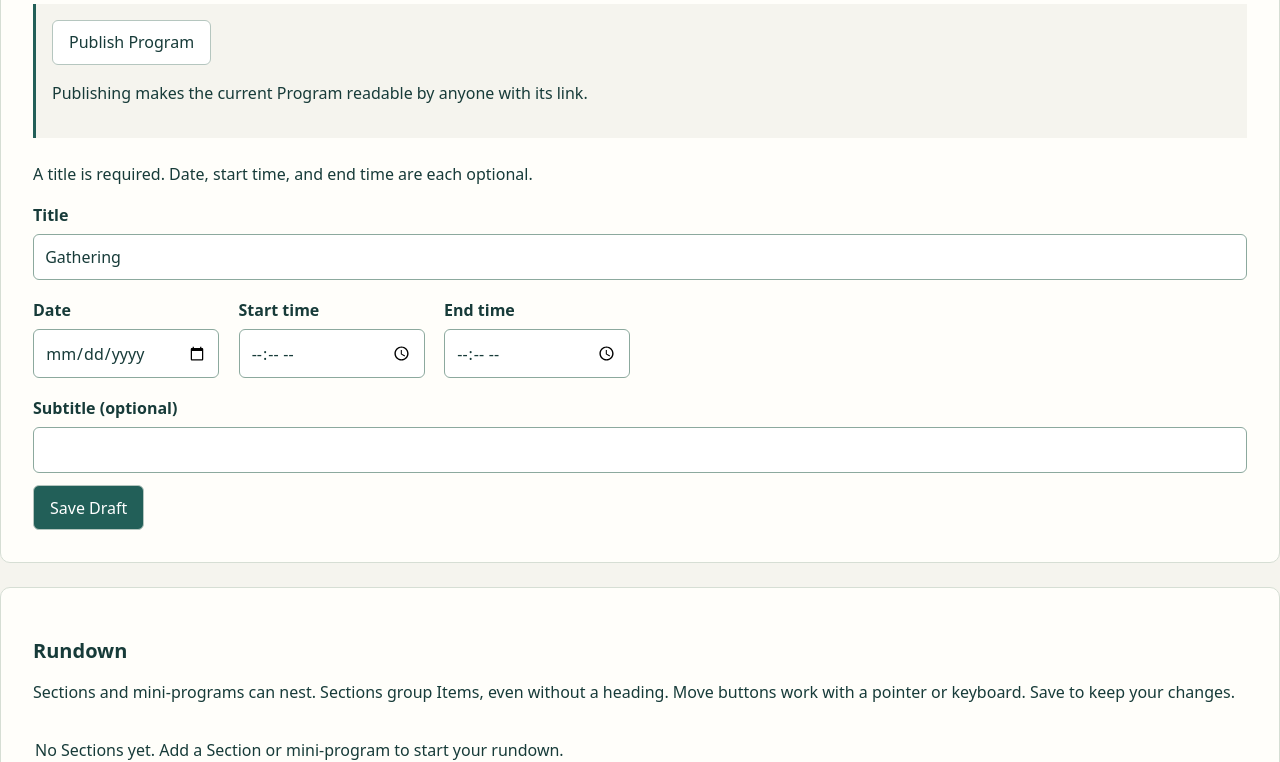
Scenario: places Program subtitle validation beside its field and keeps the value
(page scrolled)
Check: the field showing "Gathering" is shown, box [33, 234, 1247, 280]
Type "A long subtitle" into the field labelled "Subtitle (optional)" at (640, 450), box [33, 427, 1247, 473]
(page scrolled)
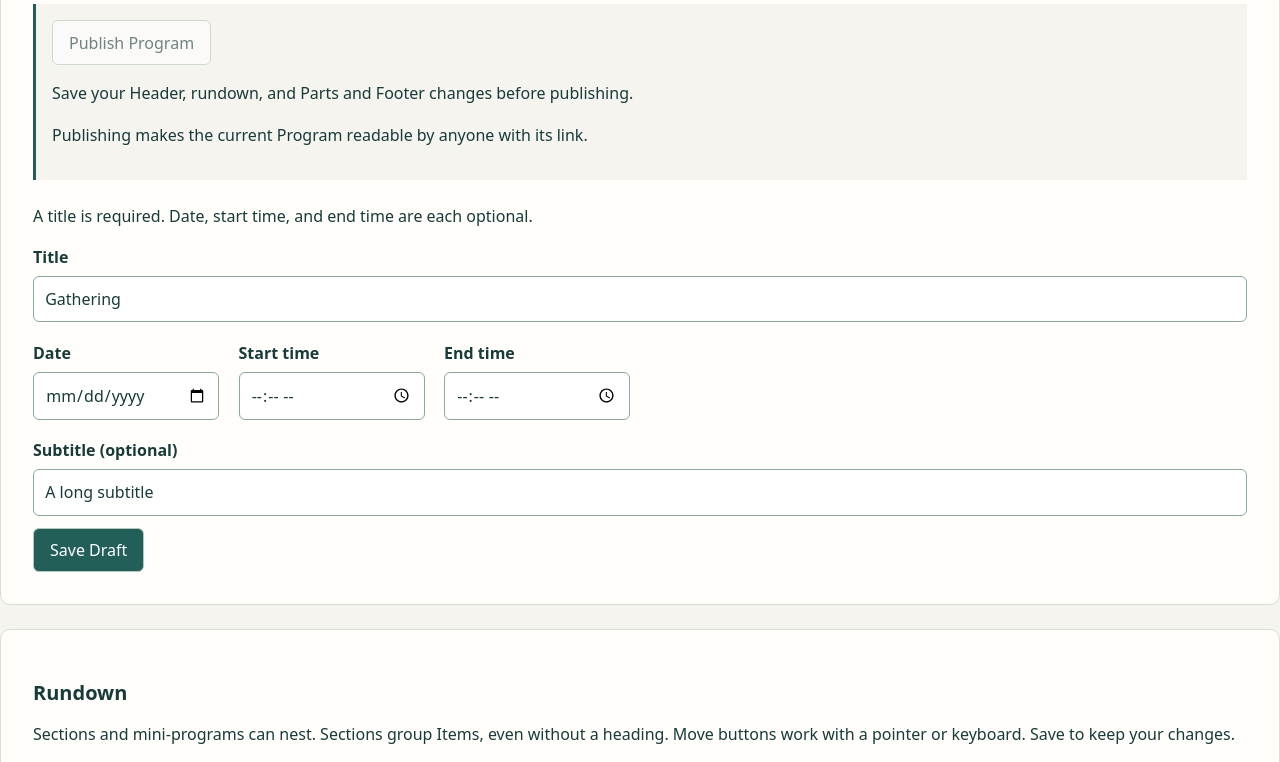
Submit the form named "Program Header", box [33, 204, 1247, 572]
(page scrolled)
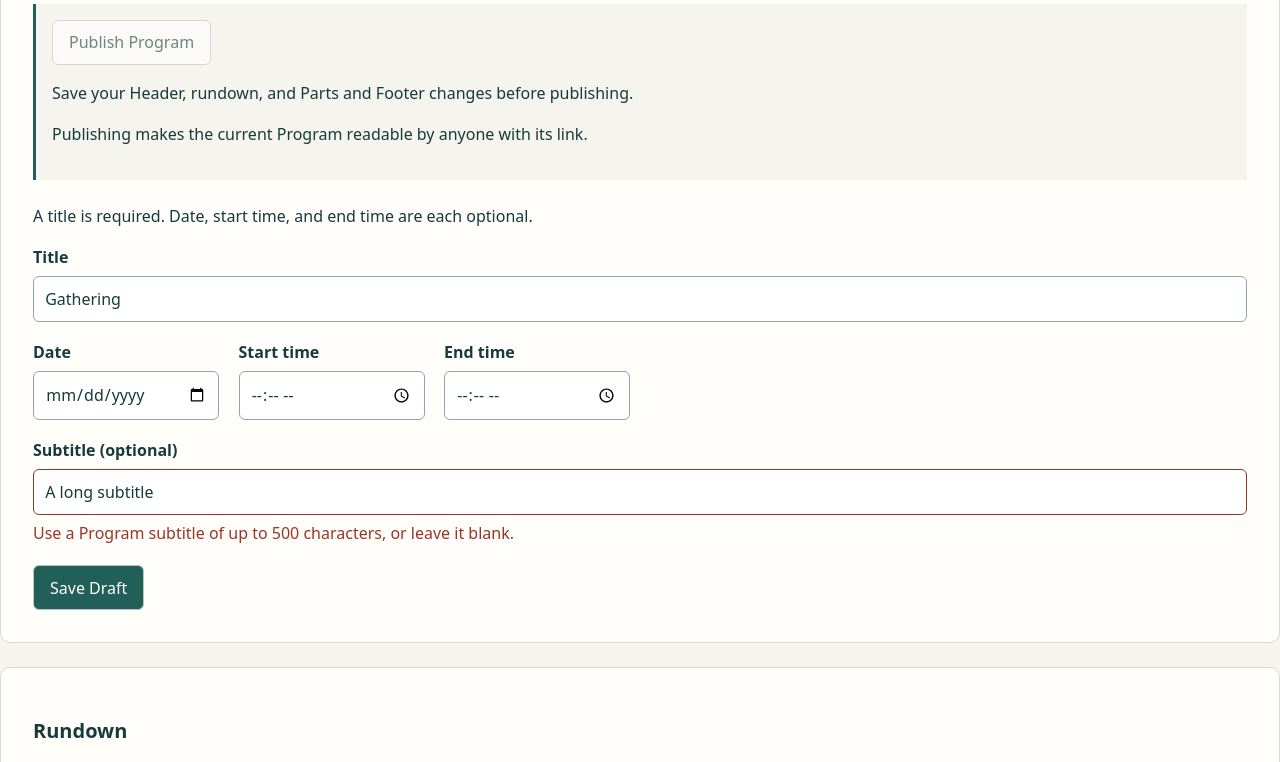
Check: the text "Use a Program subtitle of up to 500 characters, or leave it blank." is shown, box [33, 522, 514, 544]
